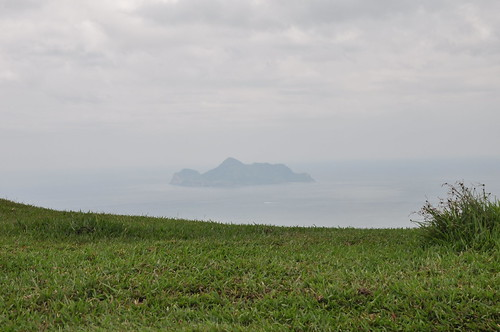turtleIslandLeft: (169, 155, 318, 188)
